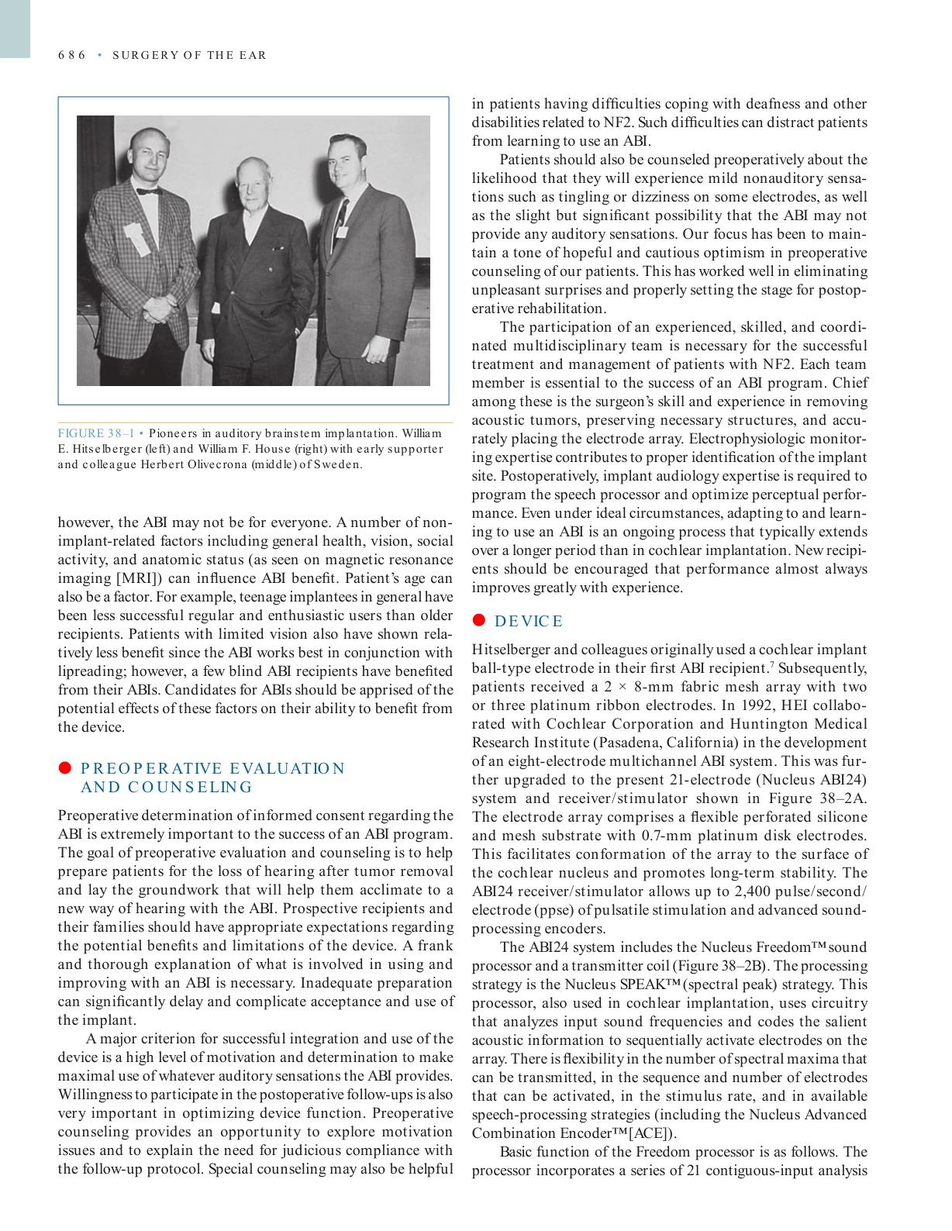caption: (56, 426, 445, 473)
header: (111, 49, 267, 60)
image: (62, 102, 445, 401)
section-heading: (77, 758, 346, 794), (492, 612, 566, 631)
text: (468, 640, 870, 1180), (470, 96, 871, 599), (55, 807, 456, 1180), (55, 514, 456, 736)
